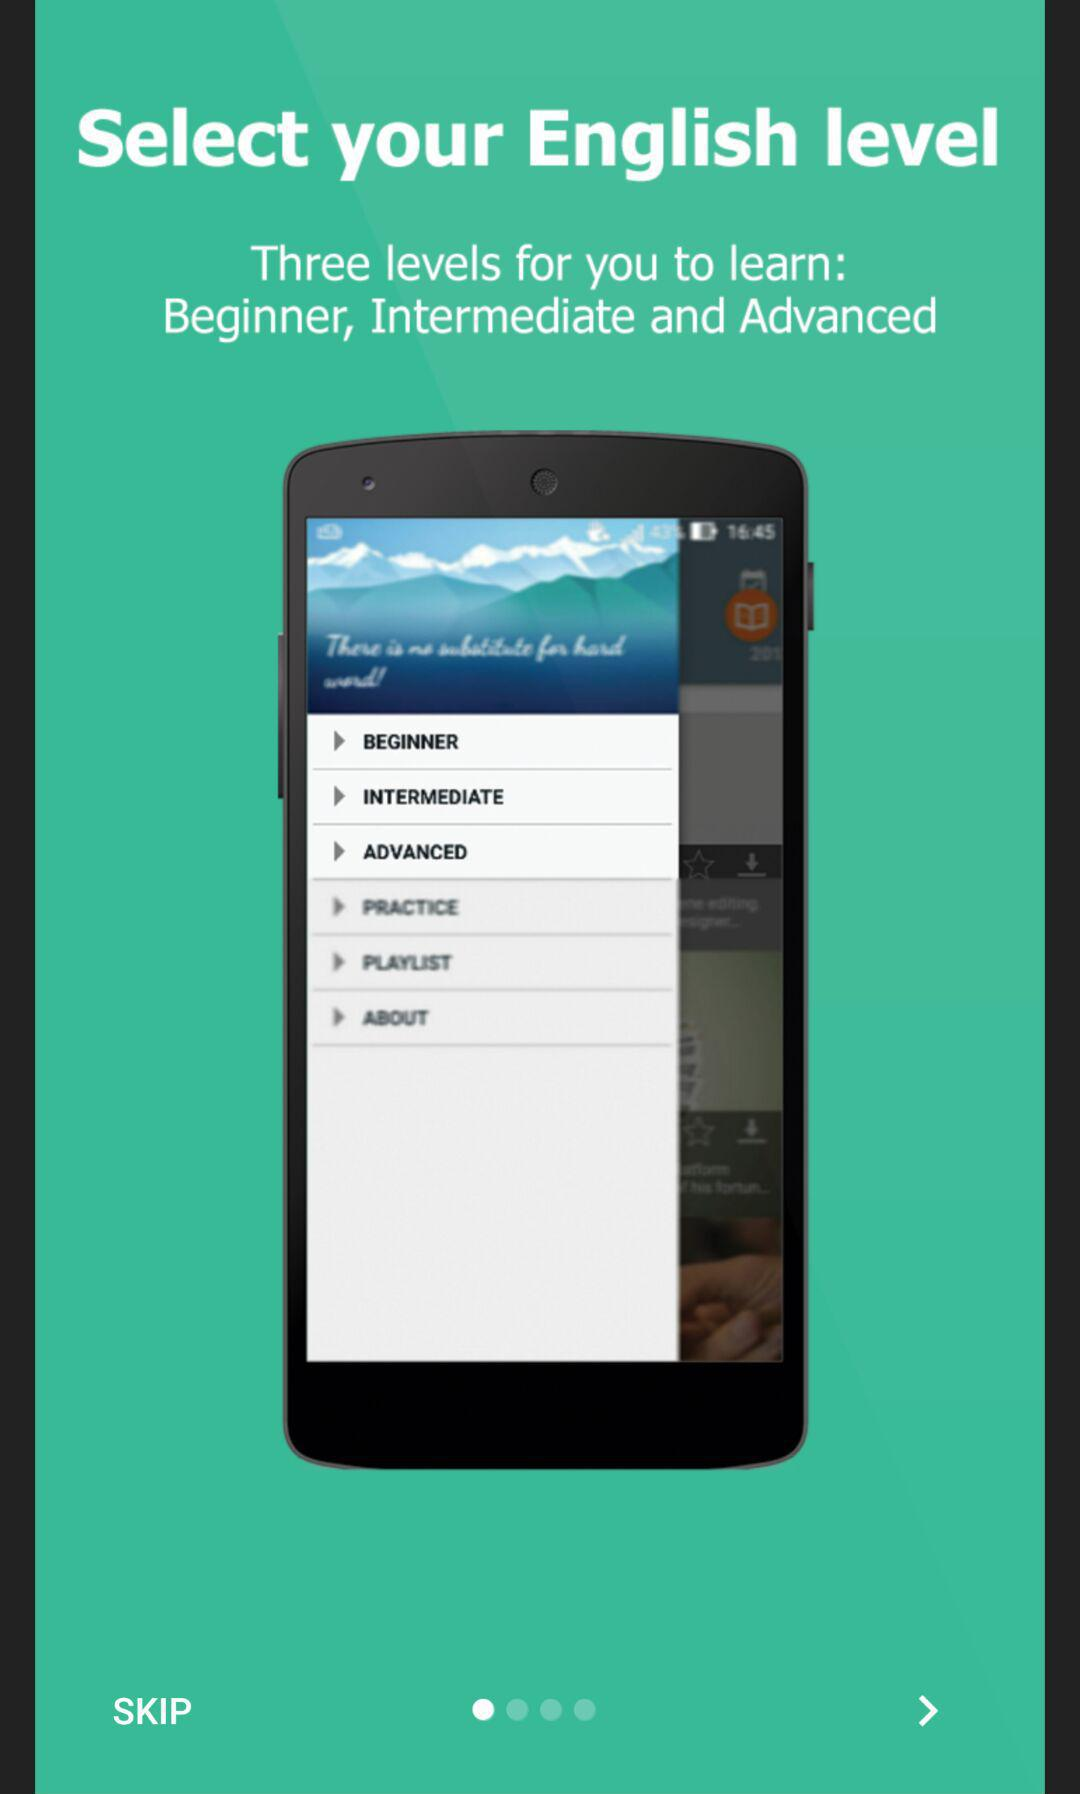Icon: (919, 1694, 939, 1727)
Image: (277, 429, 815, 1471)
PageIndicator: (471, 1697, 598, 1724)
Text: (165, 243, 937, 345), (78, 108, 998, 183), (114, 1697, 193, 1726)
